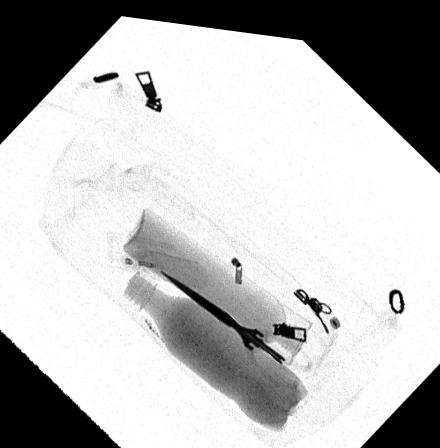Scissors: (157, 261, 316, 386)
